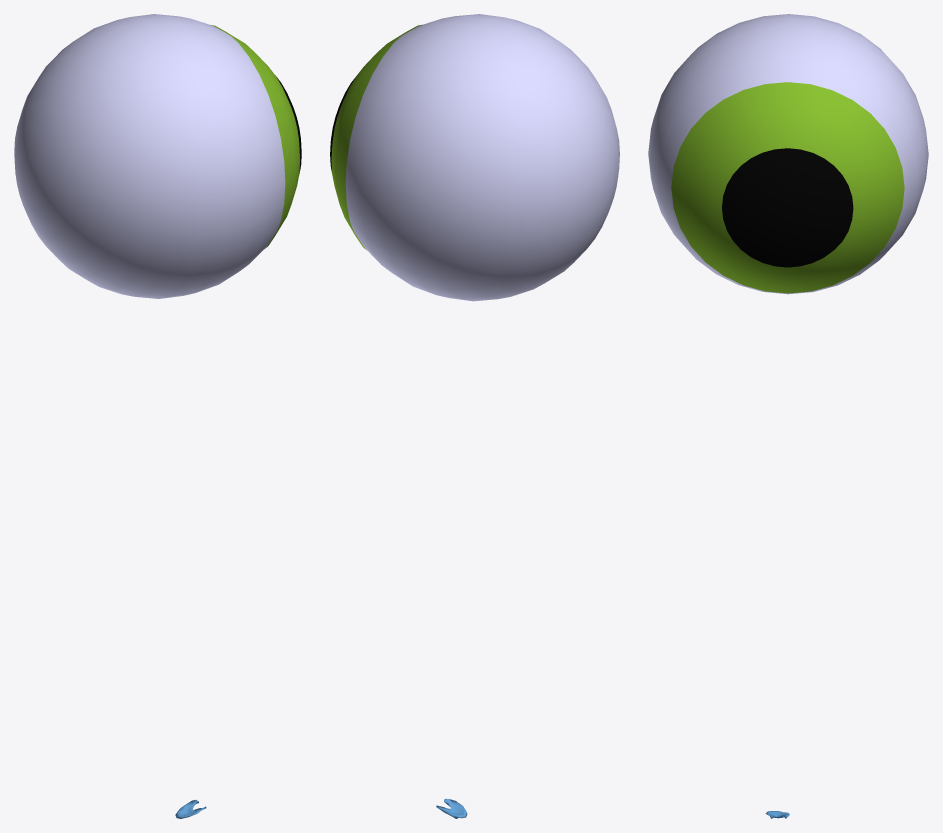
The model's file is Eye_Am_Sad_Babeh.fbx.
3 renders of one model, left to right at view 1: azimuth 30°, elevation 25°; view 2: azimuth 150°, elevation 25°; view 3: azimuth 270°, elevation 25°, orthographic. The views are drawn at different scales.
Parts seen in each view (by area): view 1: Eye; view 2: Eye; view 3: Eye.
Part boxes in pixels (x1,y1,x2,y2): Eye: (14,14,301,298); Eye: (330,14,619,301); Eye: (648,14,928,294).
Size of the model in its own units: 6110 by 18452 by 6024.
